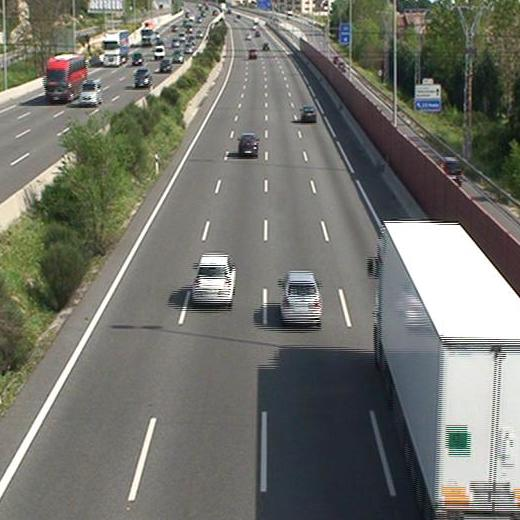car: (276, 273, 325, 324), (191, 255, 235, 306), (238, 132, 260, 156), (298, 106, 317, 121), (247, 47, 259, 60)
truck: (364, 221, 520, 520)
